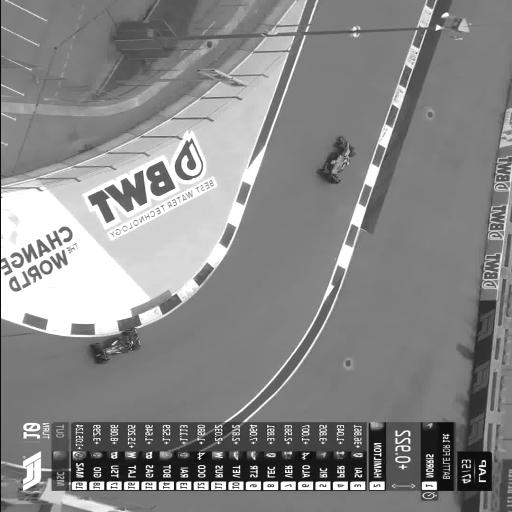f1_car: (317, 137, 355, 184), (91, 329, 140, 364)
